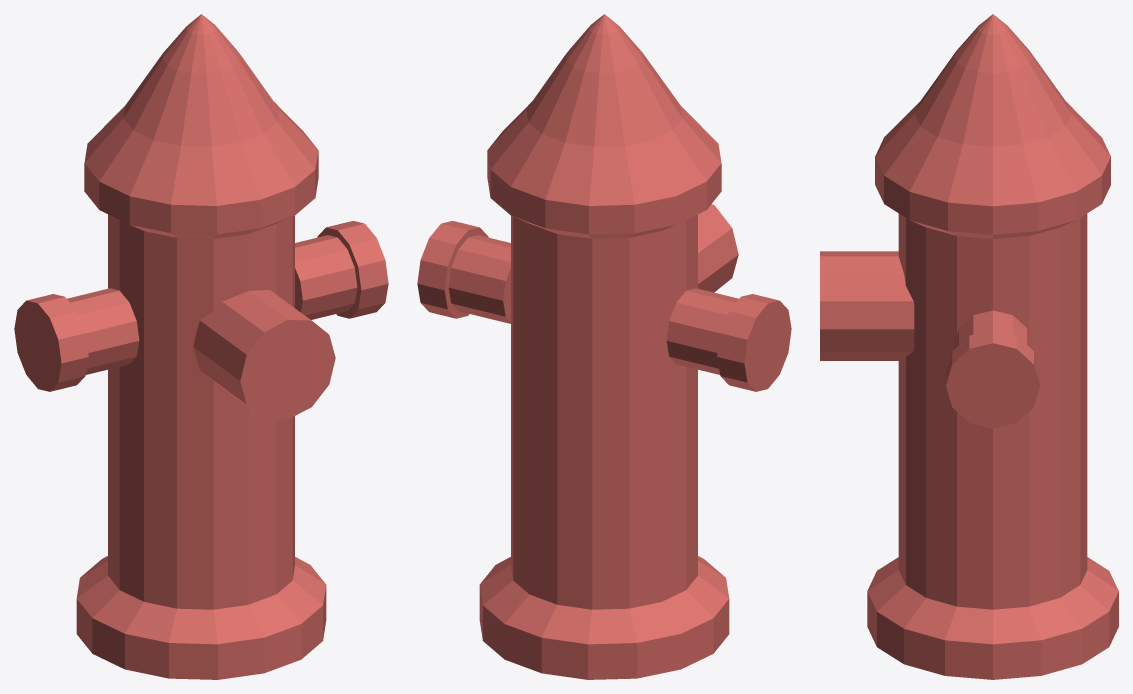
The model's file is hydrant.glb.
3 renders of one model, left to right at view 1: azimuth 30°, elevation 25°; view 2: azimuth 150°, elevation 25°; view 3: azimuth 270°, elevation 25°, orthographic.
Parts seen in each view (by area): view 1: hydrant_red; view 2: hydrant_red; view 3: hydrant_red.
Boxes of the visible parts, x1=… form: hydrant_red: x1=14, y1=14, x2=388, y2=679; hydrant_red: x1=417, y1=14, x2=791, y2=679; hydrant_red: x1=820, y1=14, x2=1118, y2=679.
Bounding box in the file's own units: 0.48 × 0.86 × 0.38.
